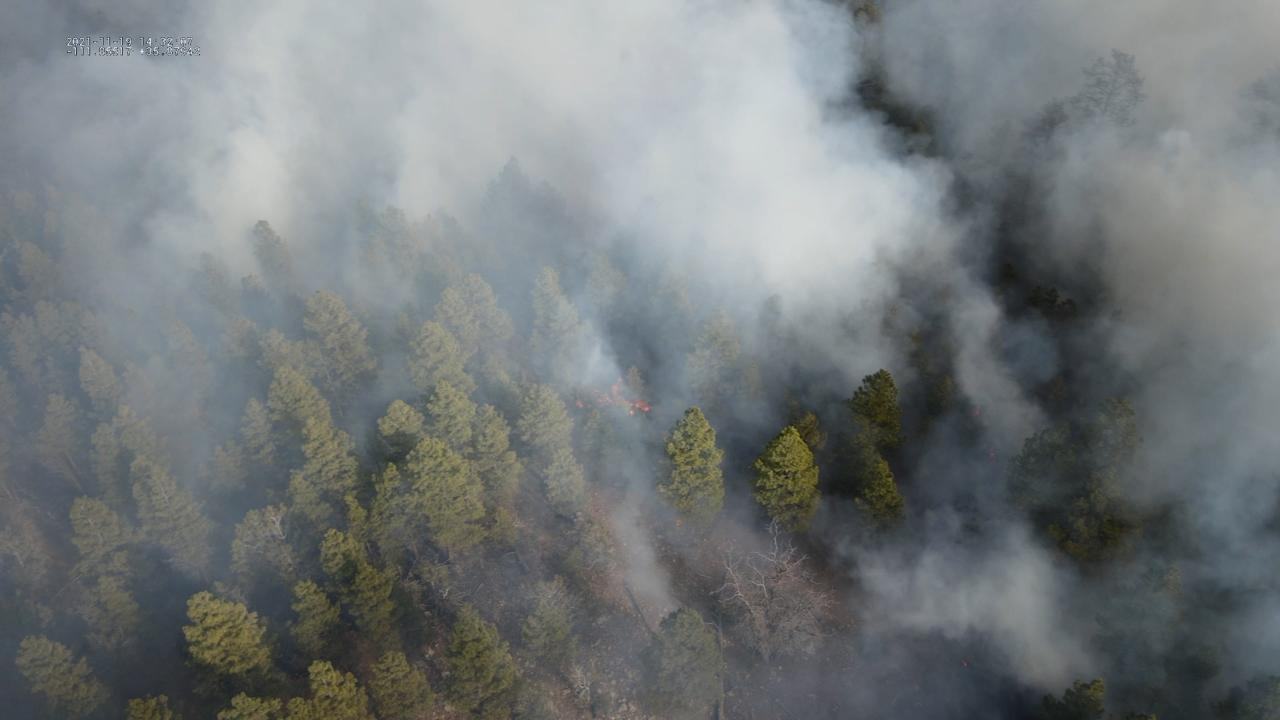fire: (573, 380, 651, 417), (972, 403, 986, 417)
smoke: (0, 0, 1280, 720)
